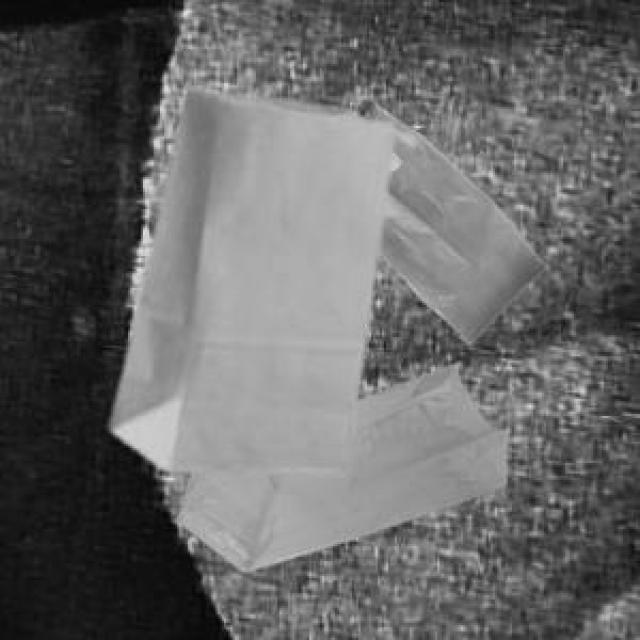paper: (107, 88, 390, 469)
